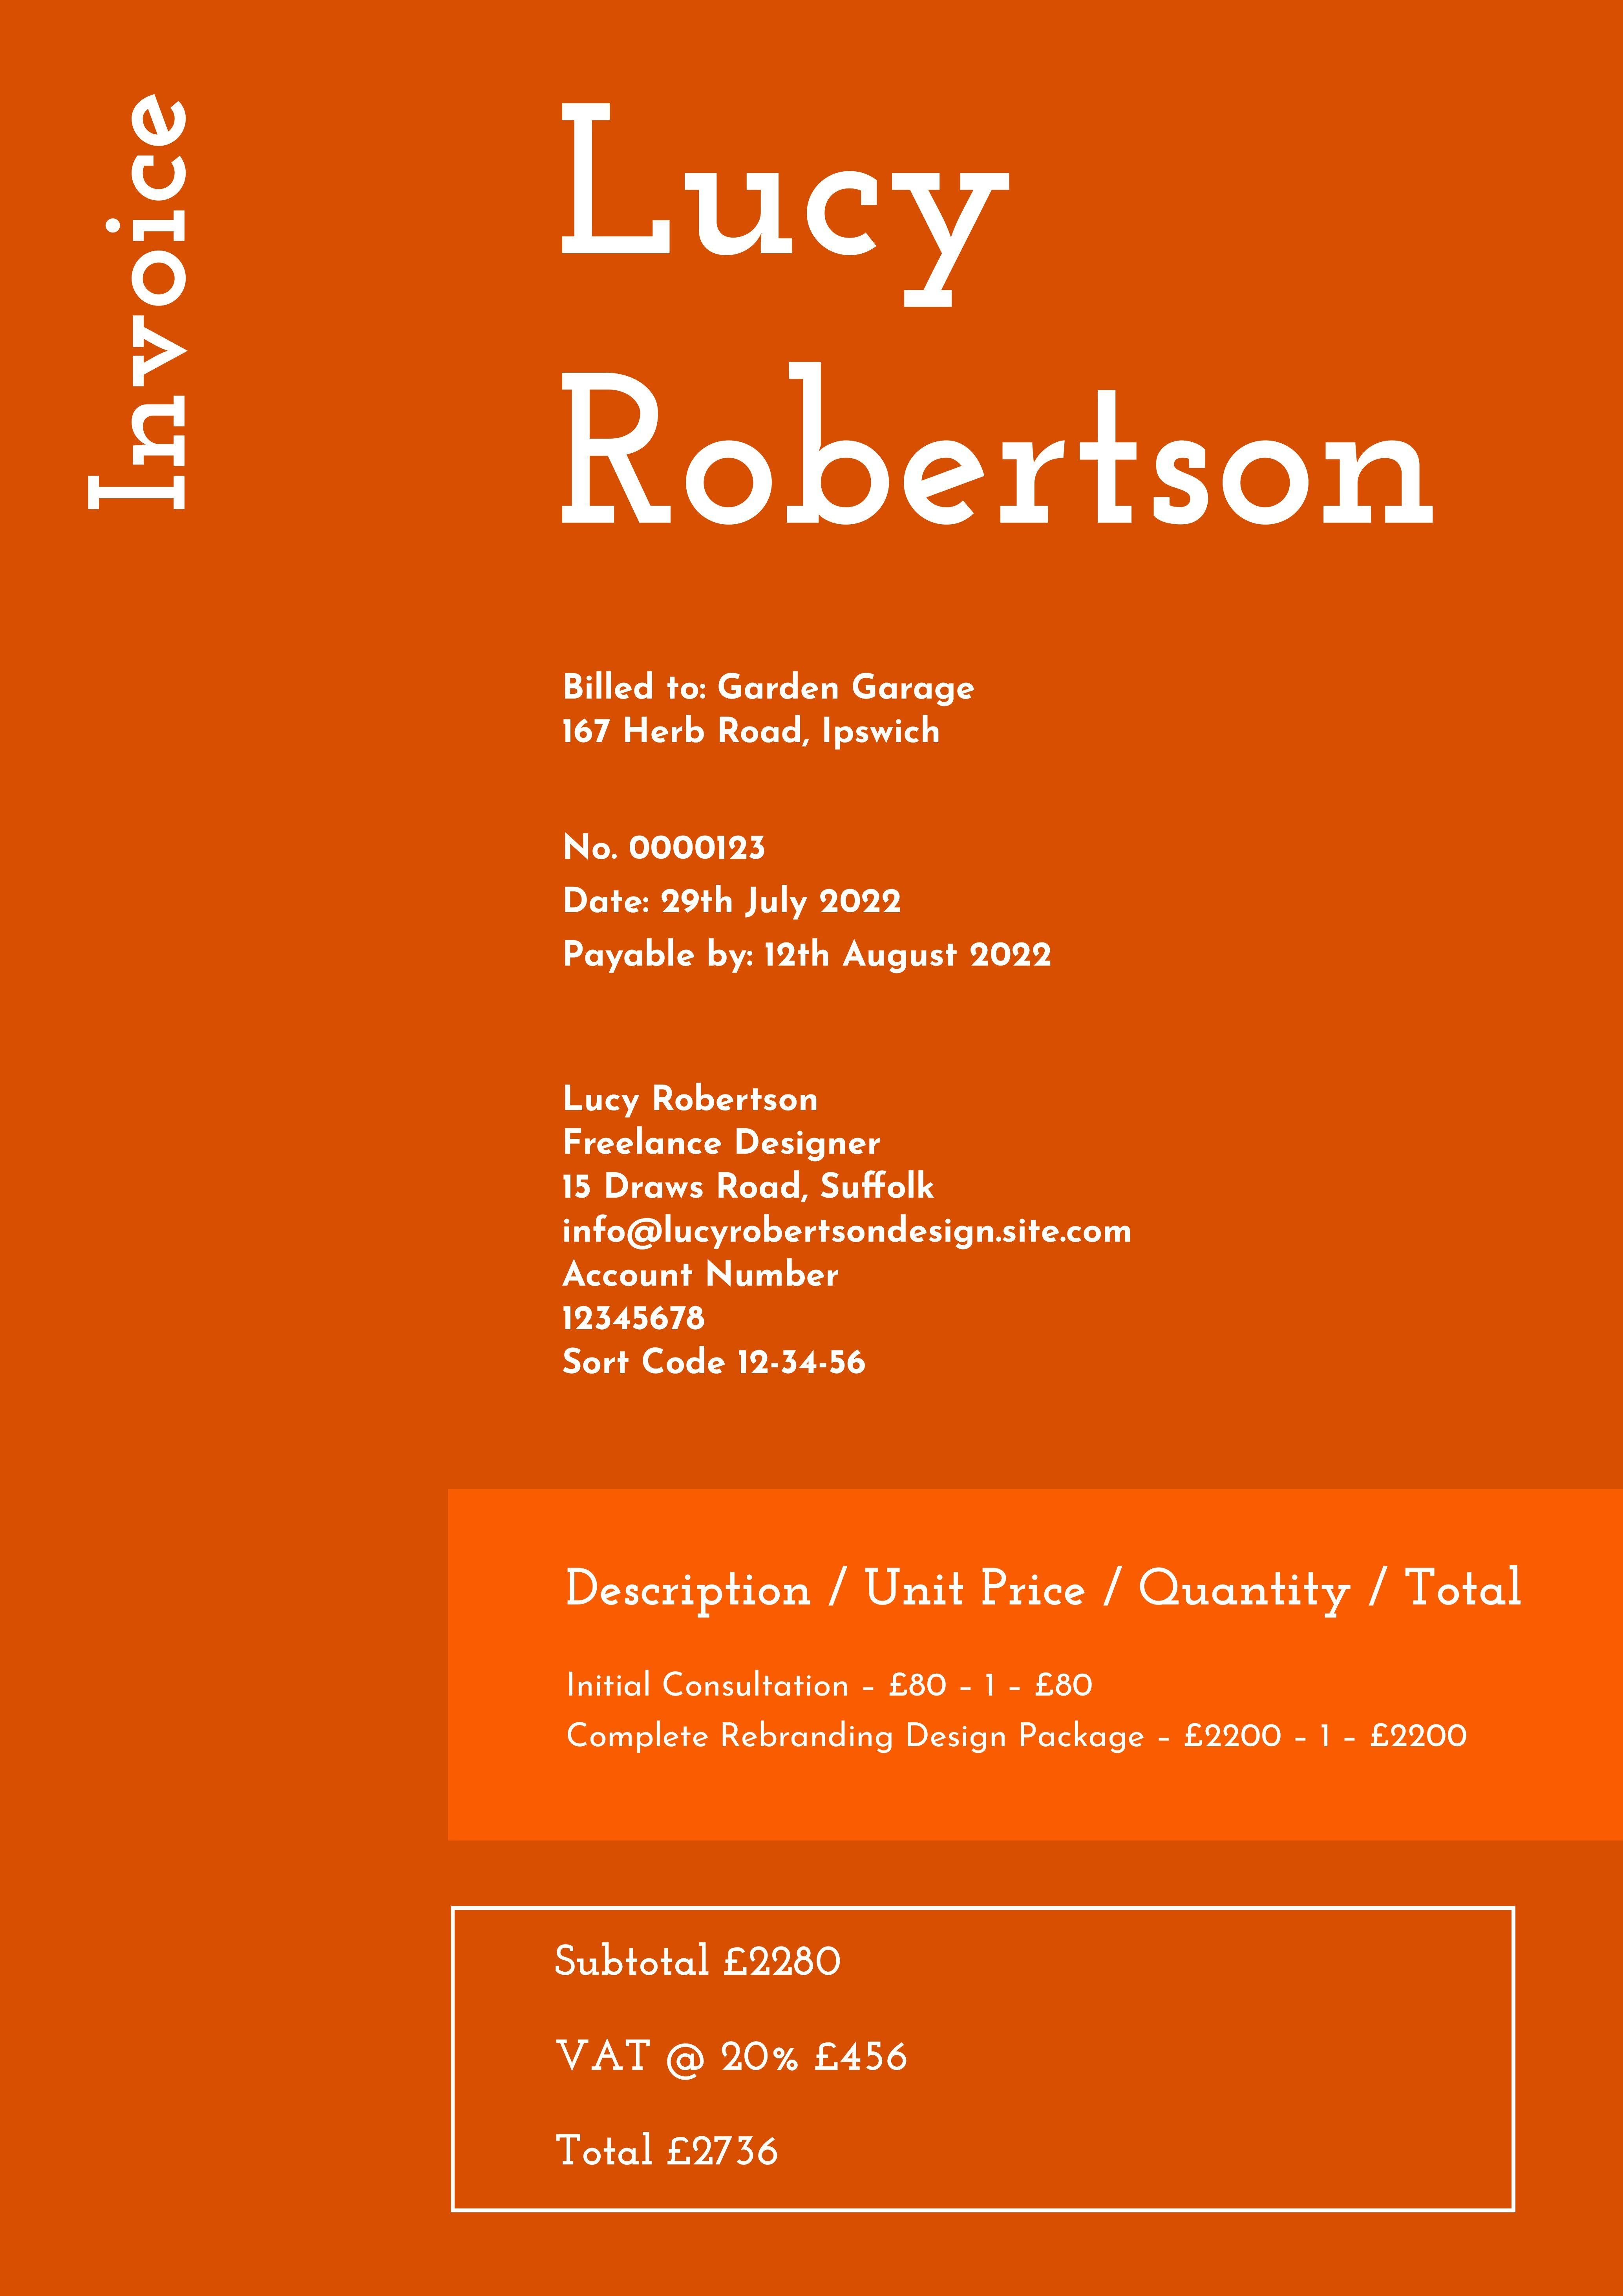ROI: (530, 77, 1451, 566), (451, 1491, 1623, 1843), (541, 1075, 1147, 1375), (522, 1925, 943, 2185), (548, 820, 1129, 1008), (532, 624, 1015, 768)
